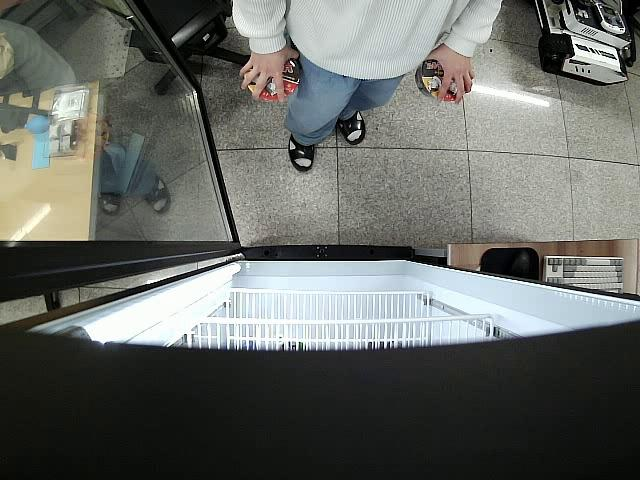00_hand: (239, 49, 298, 102), (426, 43, 474, 104)
07_buldak_L: (247, 59, 300, 102), (415, 59, 463, 102)
